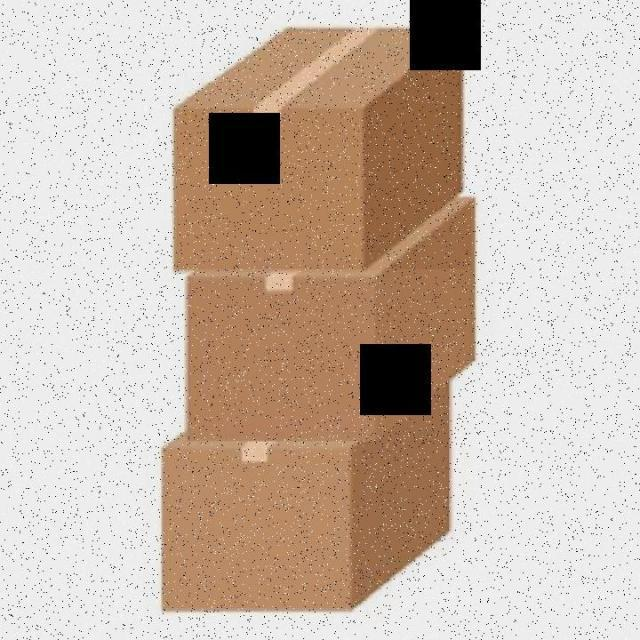box: (162, 24, 472, 270)
